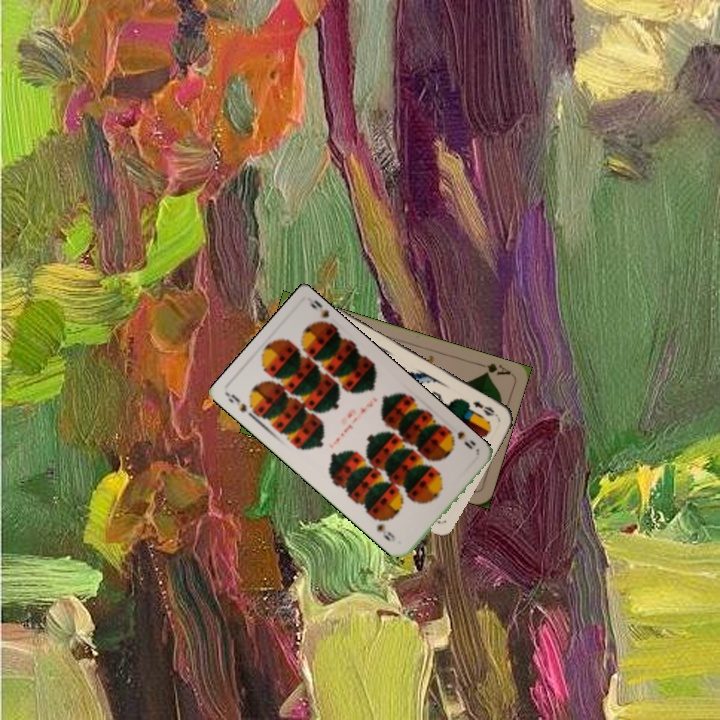EO: (469, 397, 501, 420)
GA: (473, 359, 513, 378)
S9: (224, 390, 258, 421), (445, 426, 476, 452)
